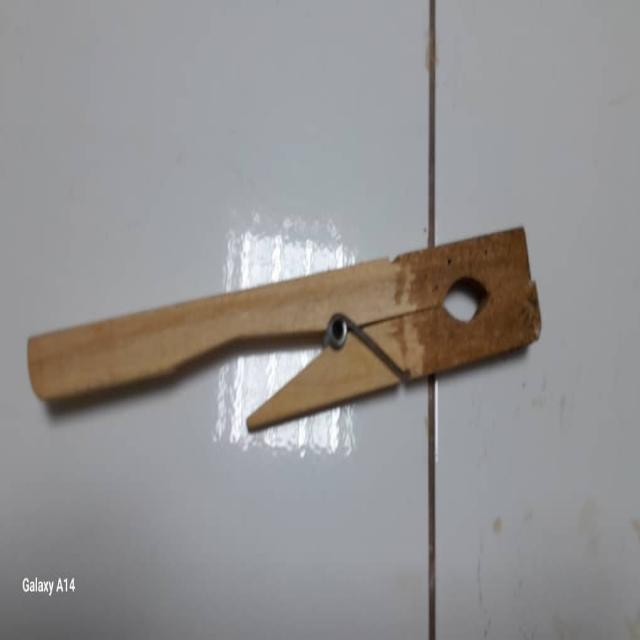Test Tube Holder: (24, 230, 562, 426)
